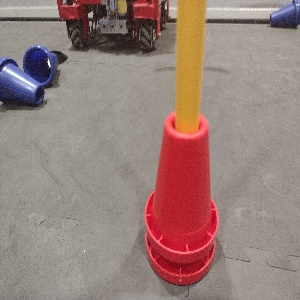Blue_1: (0, 51, 45, 110), (22, 44, 69, 81)
Red_2: (141, 106, 222, 286)
